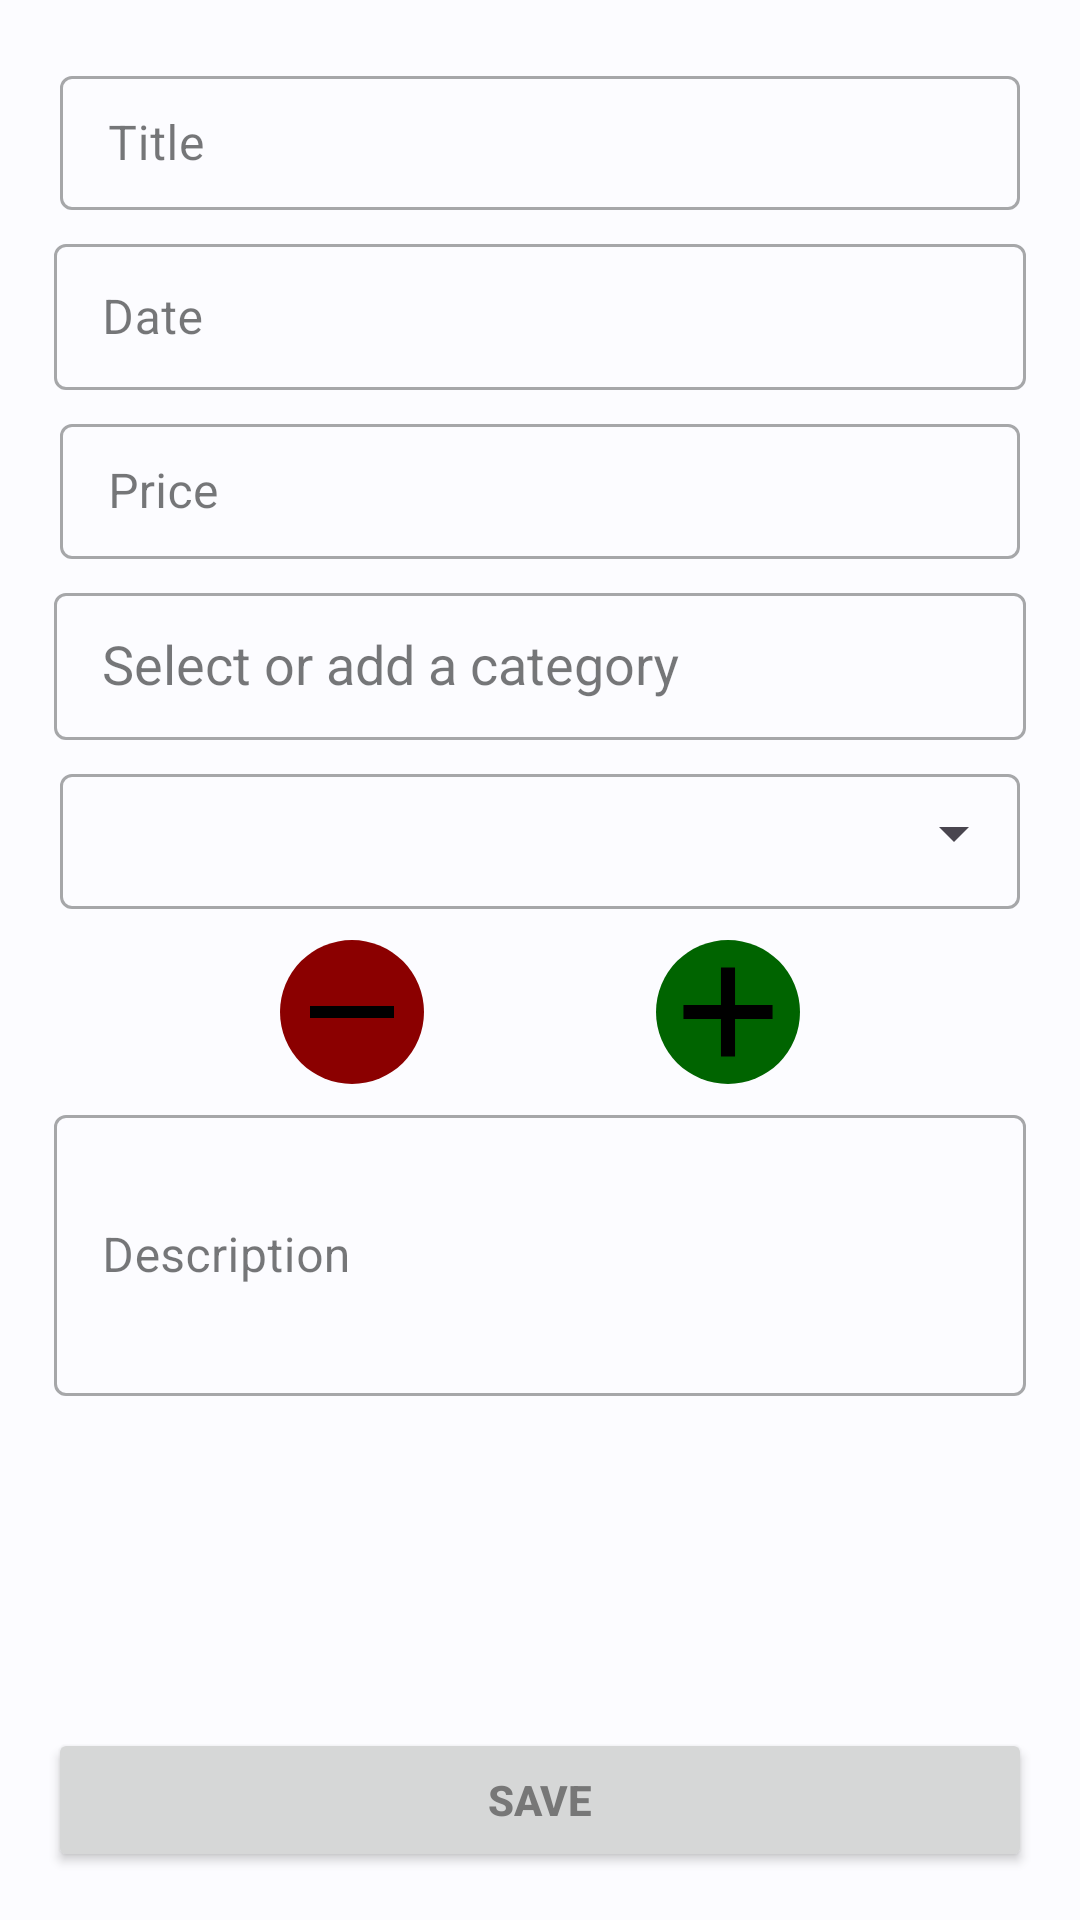

Icon bounding boxes for this 1080*1920 phone screenshot, format BBox(x1, y1, x2, y2):
add: BBox(656, 940, 800, 1084)
remove: BBox(280, 940, 424, 1084)
